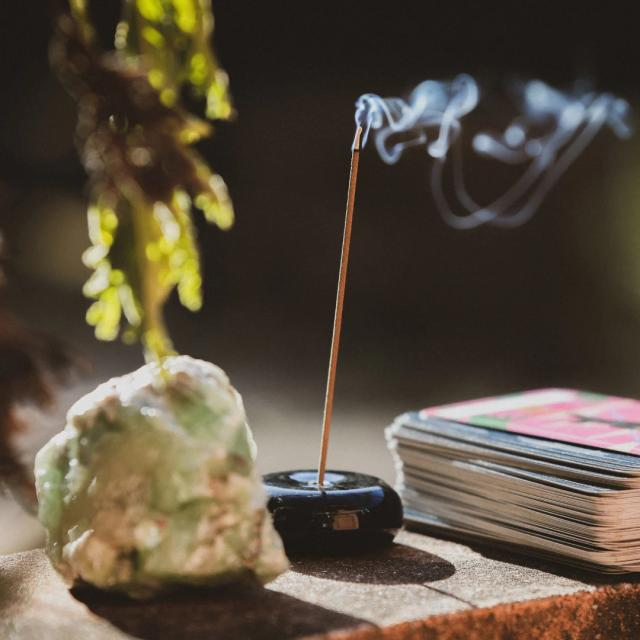Agarbatti: (304, 119, 388, 482)
